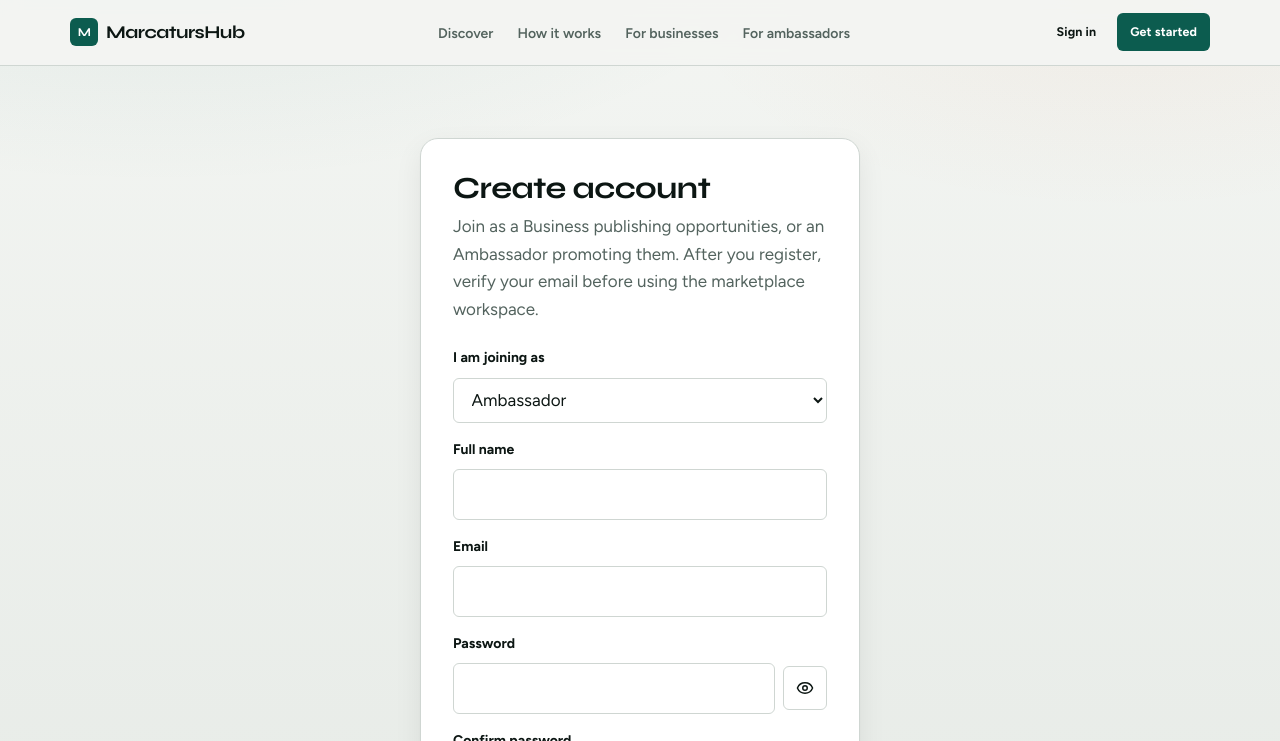
MH-OPS-055 registration field-level API validation UX › Test D — non-validation API errors keep the safe form-level banner
Select "Ambassador" in the dropdown labelled "I am joining as" at (640, 400), box [453,378,827,423]
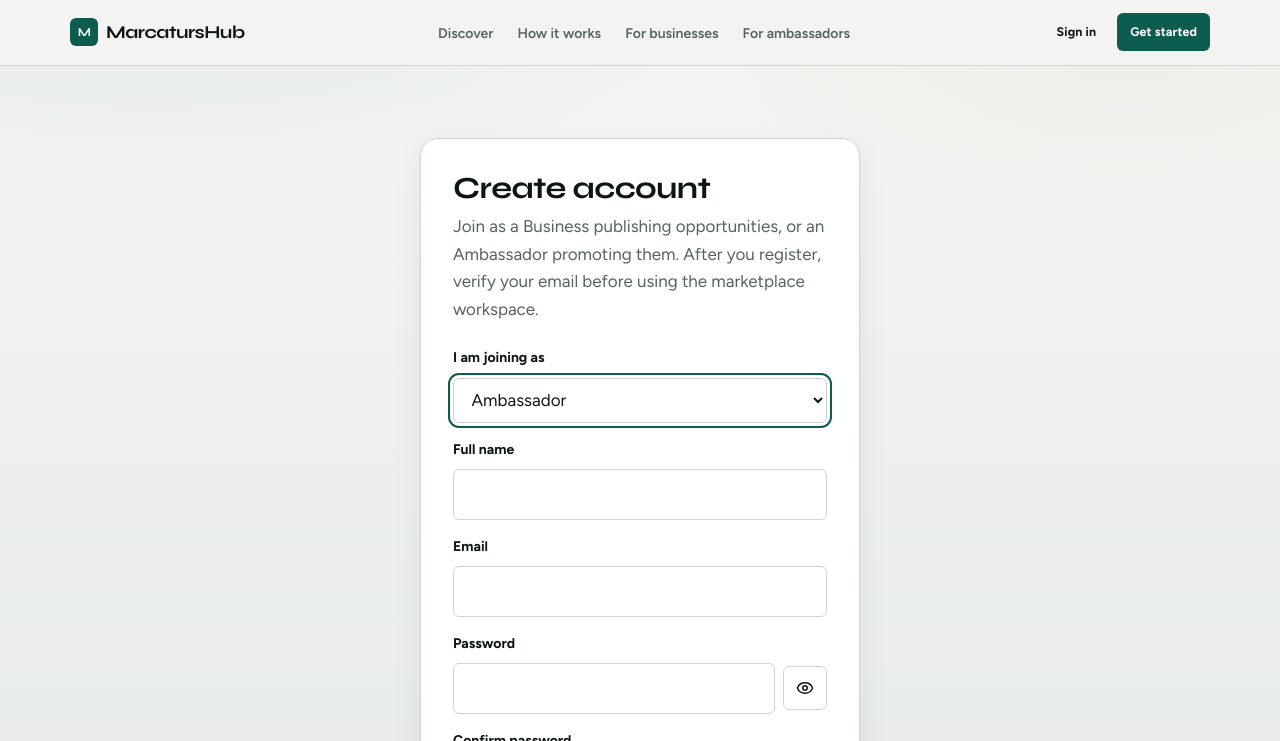
Type "New Participant" into the field labelled "Full name".
click(640, 494); type("New Participant")  # box [453,469,827,520]
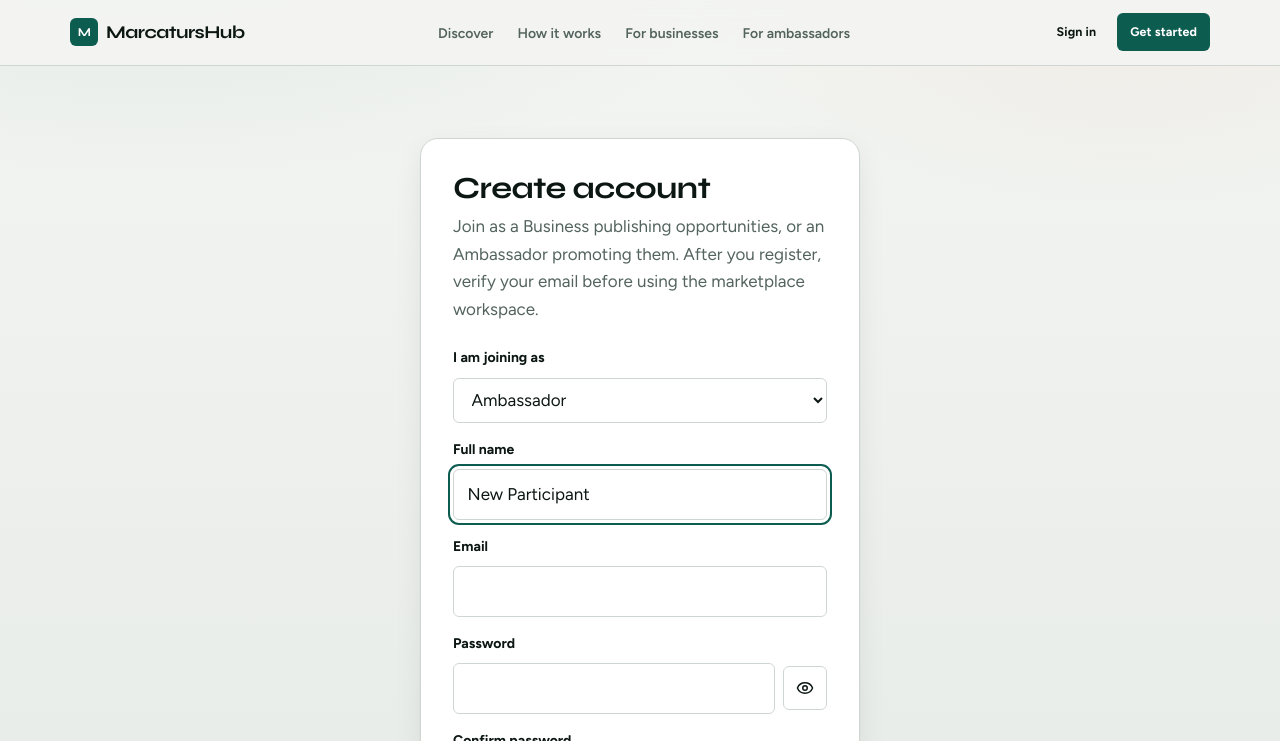
Type "new@example.com" into the field labelled "Email".
click(640, 591); type("new@example.com")  # box [453,566,827,616]
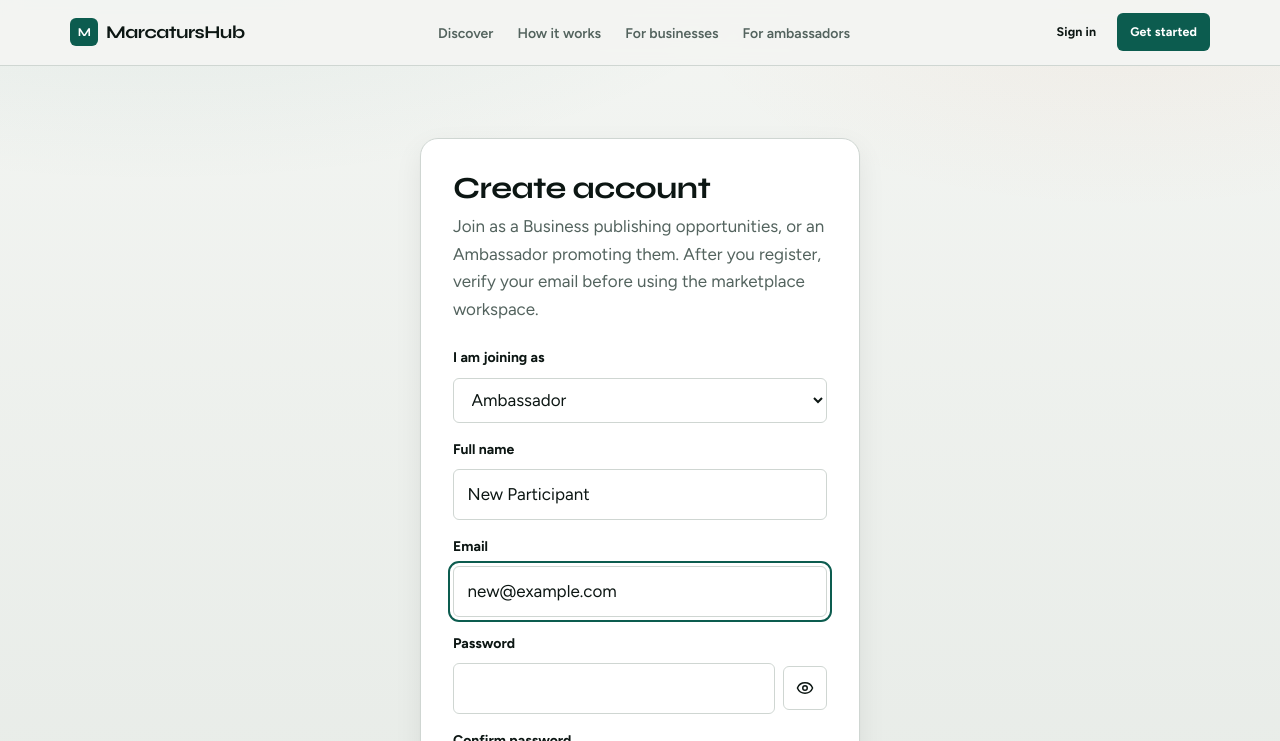
Type "DemoPass123!" into the password field labelled "Password".
click(614, 688); type("DemoPass123!")  # box [453,663,775,714]
(page scrolled)
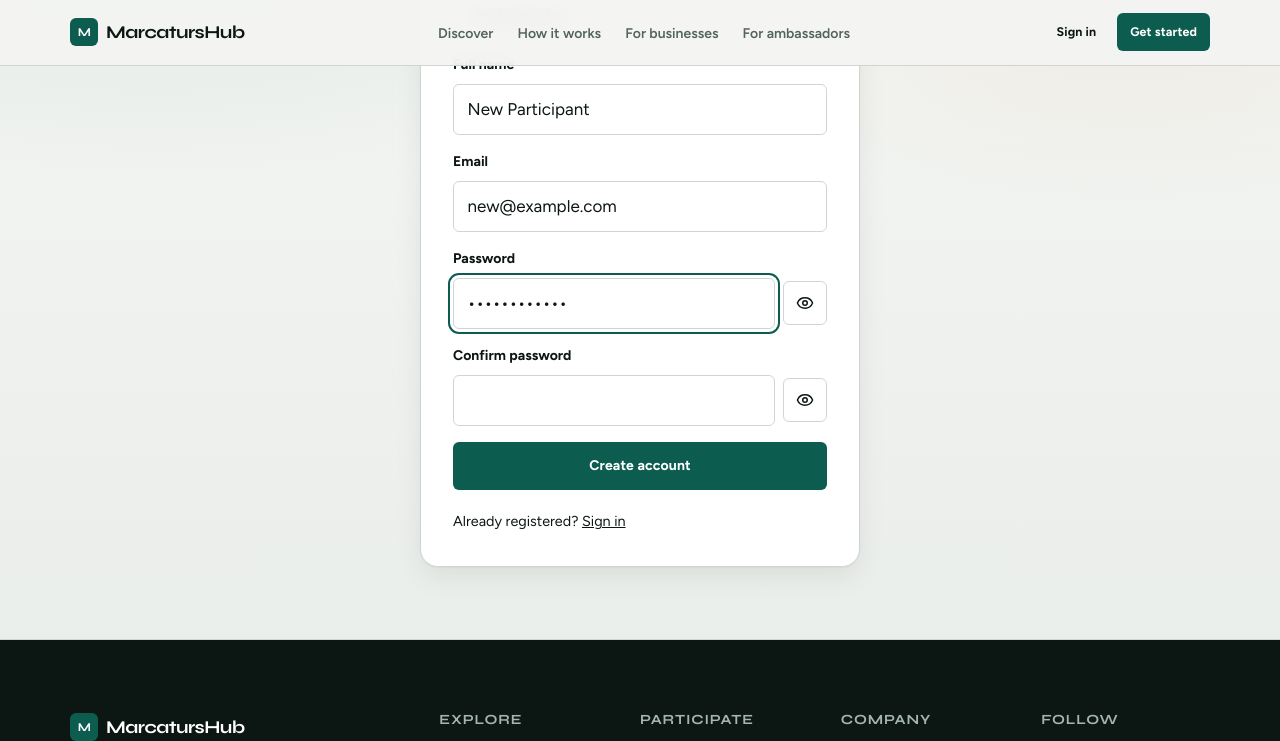
Type "DemoPass123!" into the password field labelled "Confirm password".
click(614, 400); type("DemoPass123!")  # box [453,375,775,426]
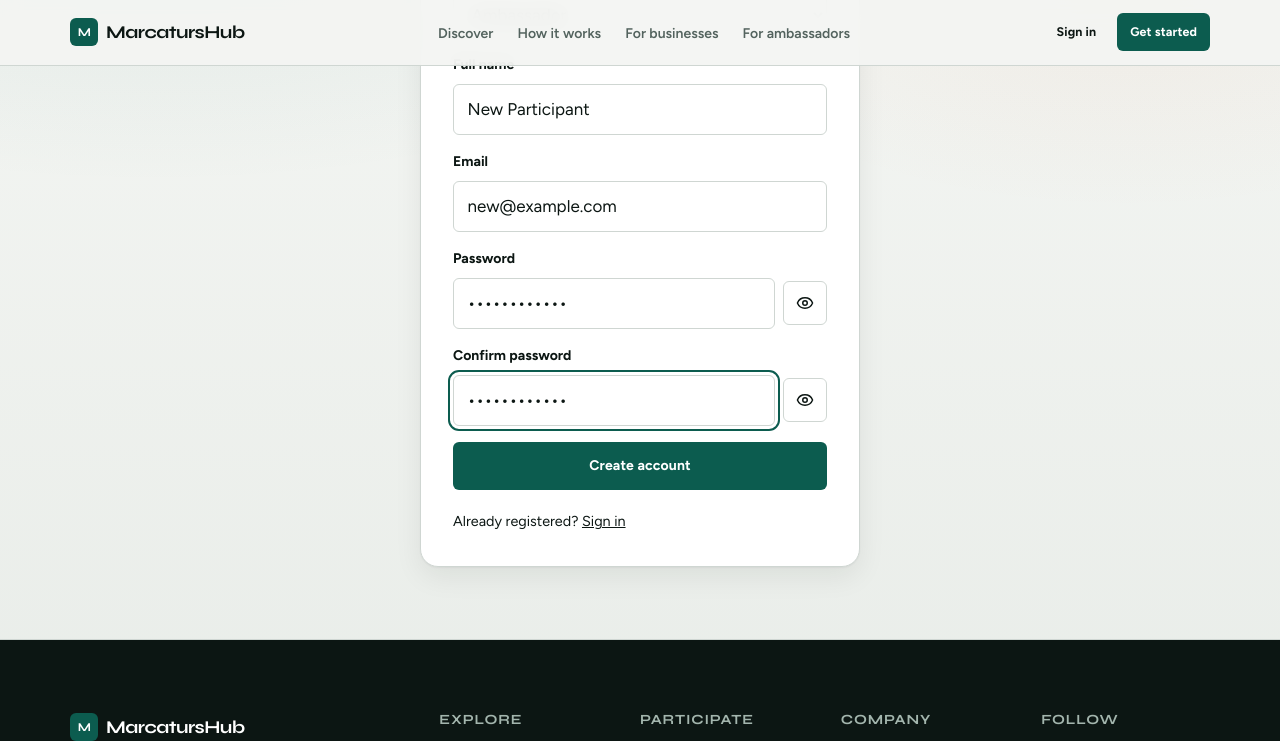
Click the button "Create account".
click(640, 466)  # box [453,442,827,490]
(page scrolled)
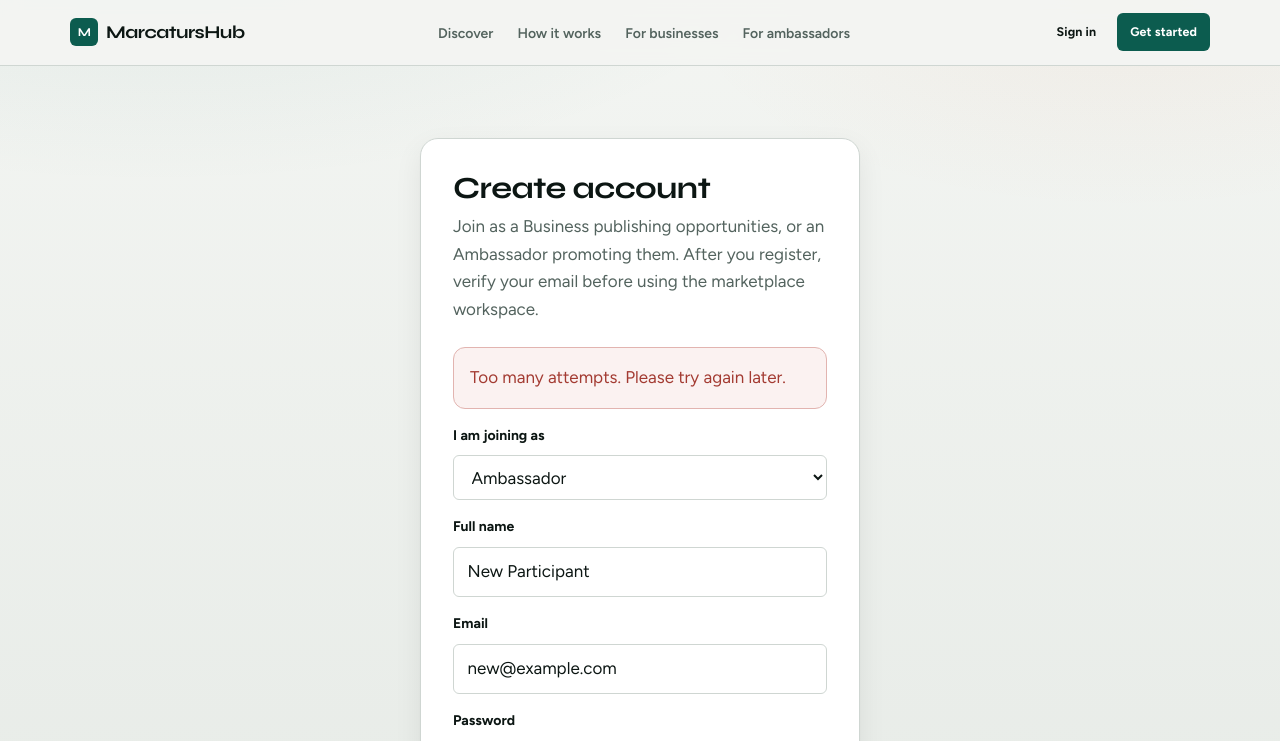
Result: the message reads "Too many attempts. Please try again later." at [470,367,786,387]
